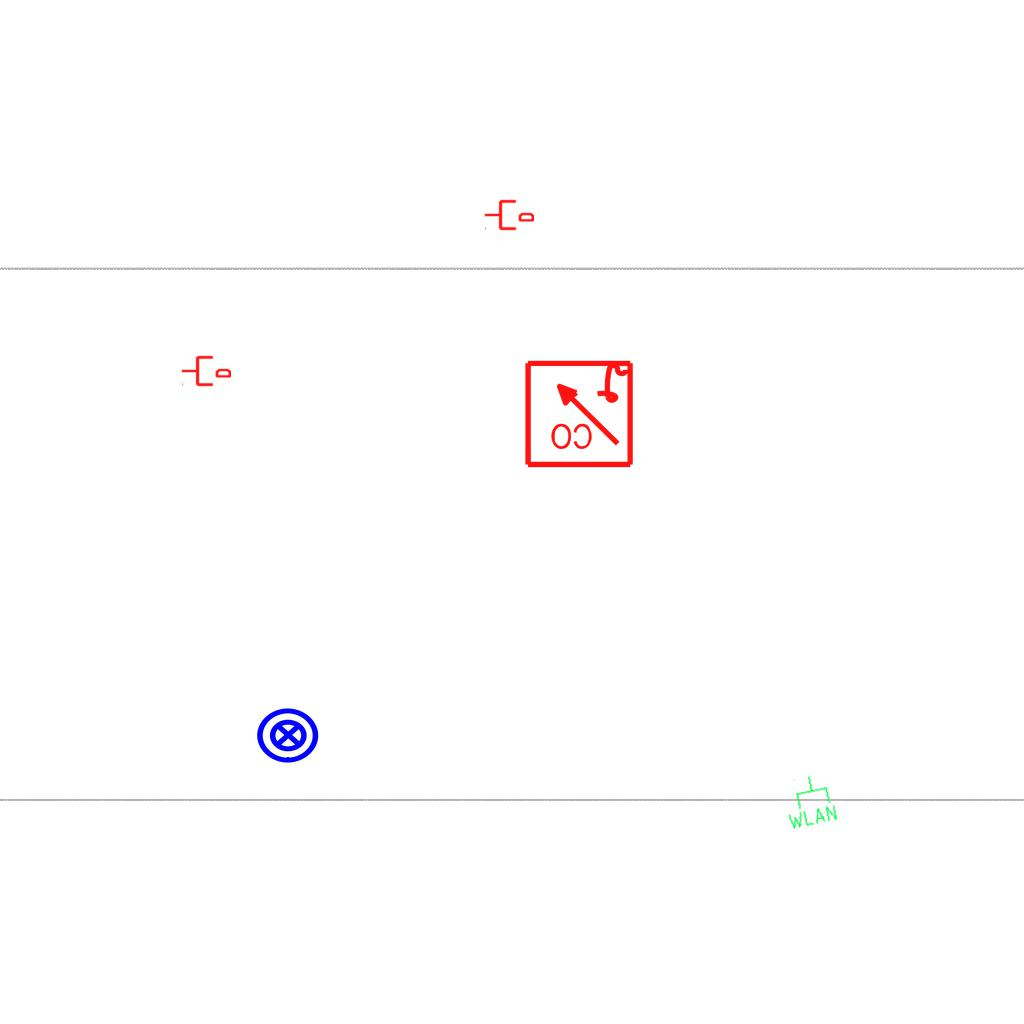Datenanschluss_einfach: (484, 198, 534, 232), (181, 354, 231, 388)
ROA_Rauchmelder_optisch_mit_Signalgeber_(Sockelsirene): (522, 356, 635, 469)
Taster_beleuchtet: (255, 702, 321, 768)
WLAN: (778, 770, 840, 832)
